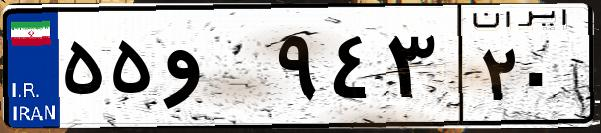0: (525, 38, 570, 115)
2: (475, 38, 525, 113)
3: (385, 28, 445, 110)
4: (330, 28, 385, 110)
5: (57, 26, 110, 100), (110, 28, 158, 98)
9: (270, 28, 330, 110)
و: (158, 20, 270, 120)
